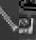sword: (0, 18, 19, 38), (0, 0, 19, 18)
